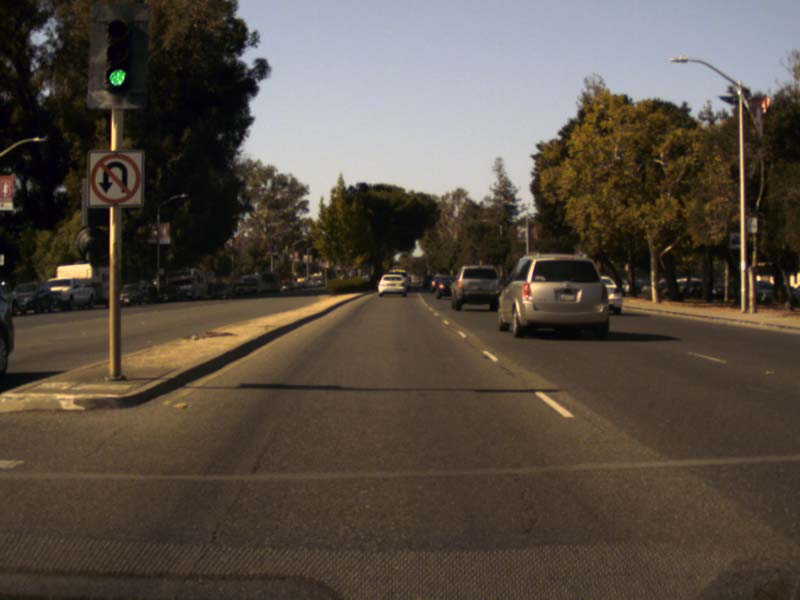Green: (104, 20, 131, 90)
